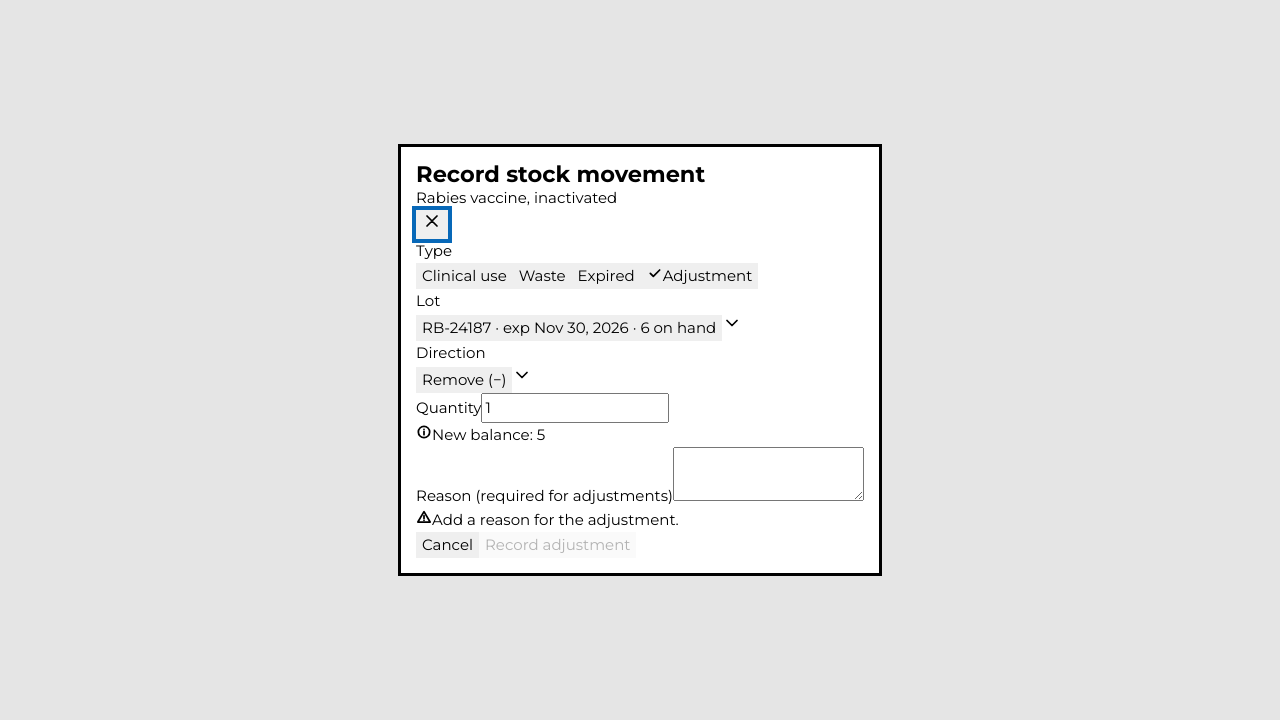
StockMovementModal fields › adds stock when an adjustment goes in the add direction
The image size is (1280, 720).
Click the dropdown named "Direction": (464, 380) left=416, top=367, right=512, bottom=393
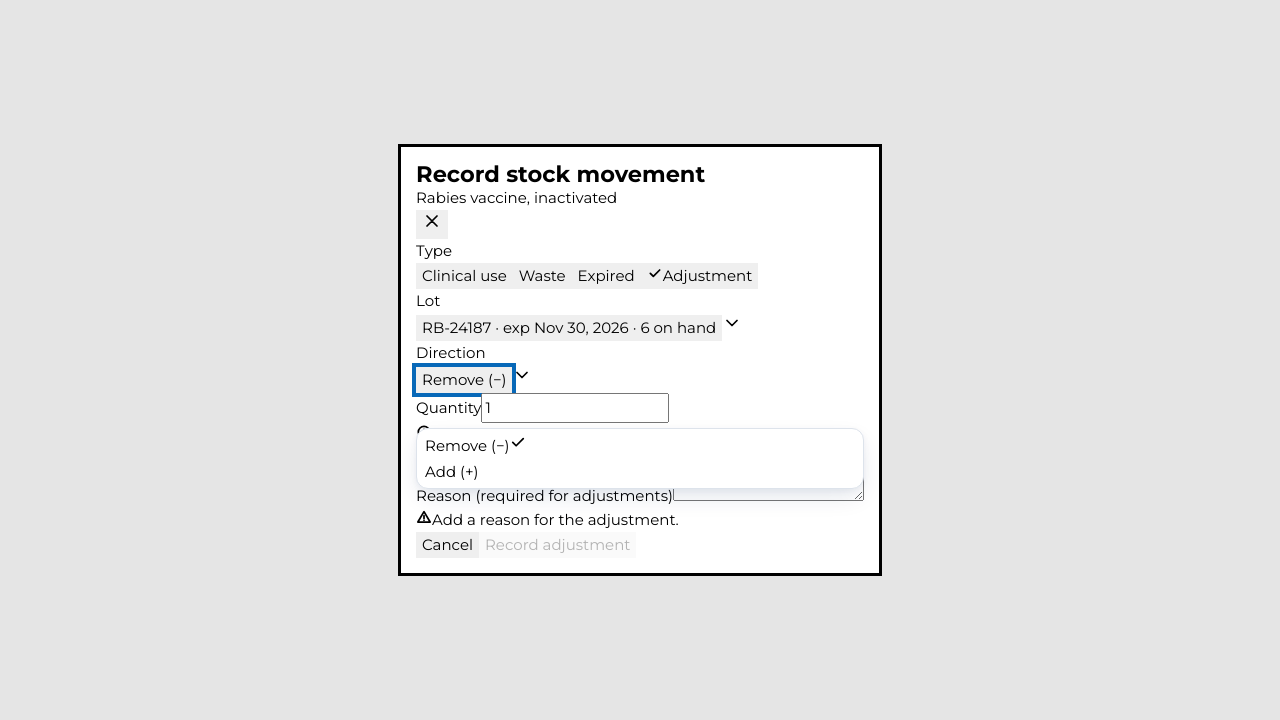
Click the option "Add (+)": (452, 471) left=425, top=462, right=479, bottom=480
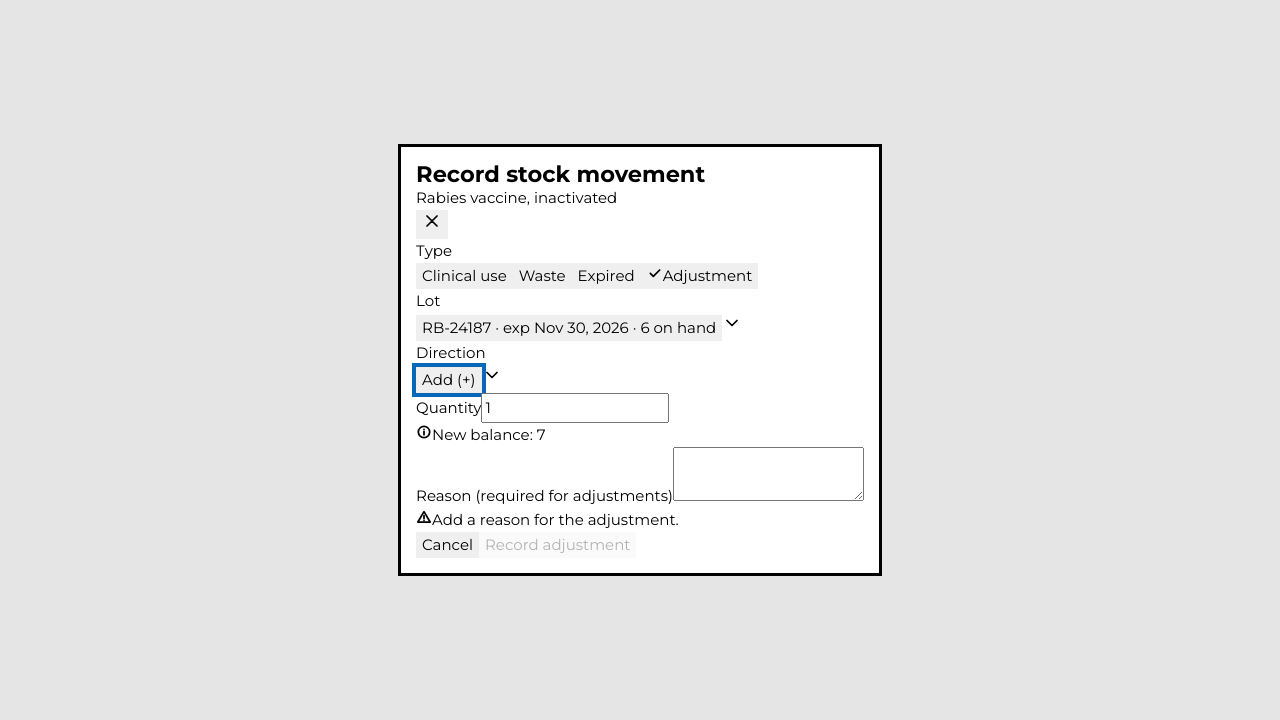
Result: the text "New balance: 7" is shown at left=432, top=425, right=546, bottom=444
